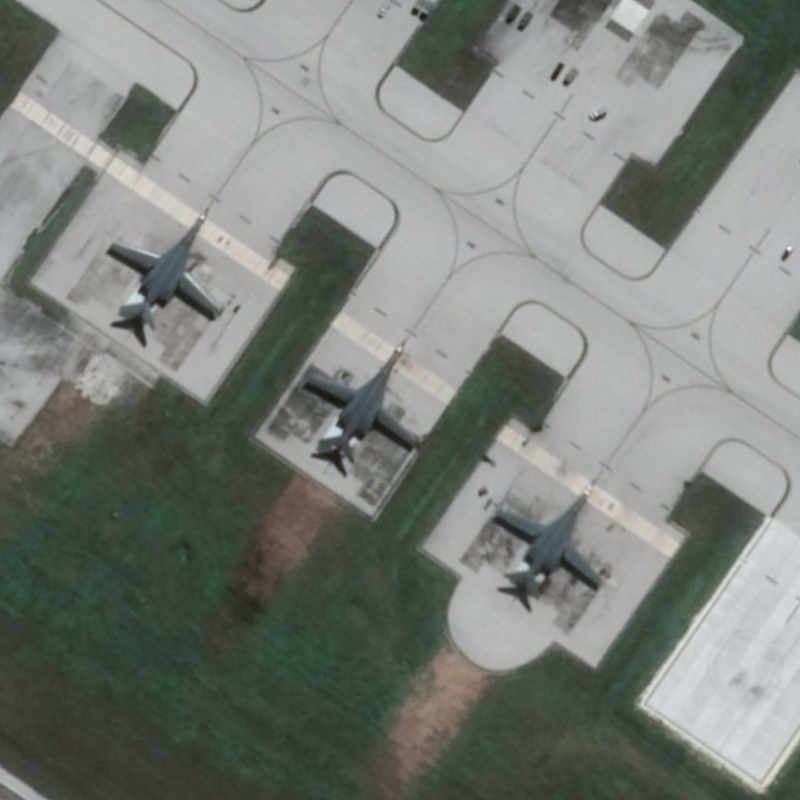A10: (301, 334, 426, 464), (101, 206, 224, 337), (489, 475, 609, 600)
